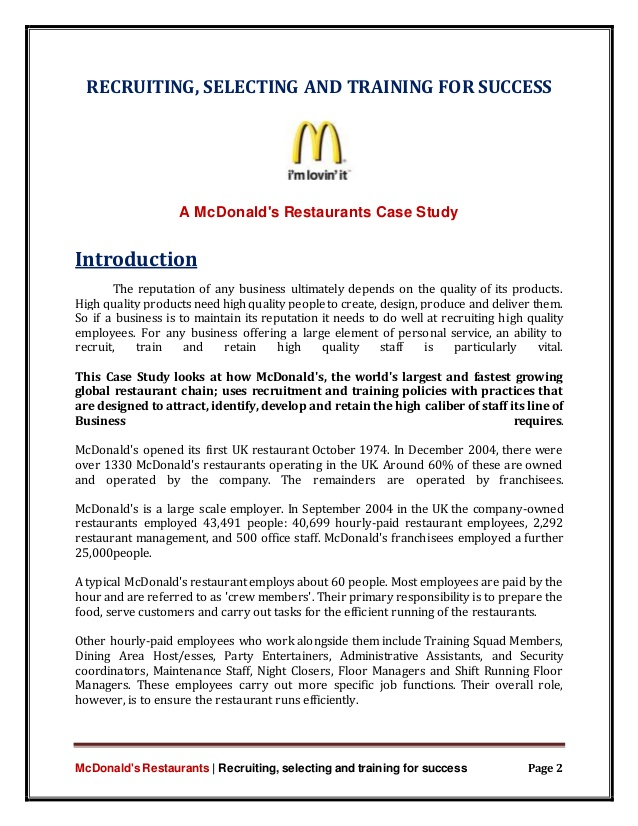mcdonalds: (289, 121, 343, 163)
